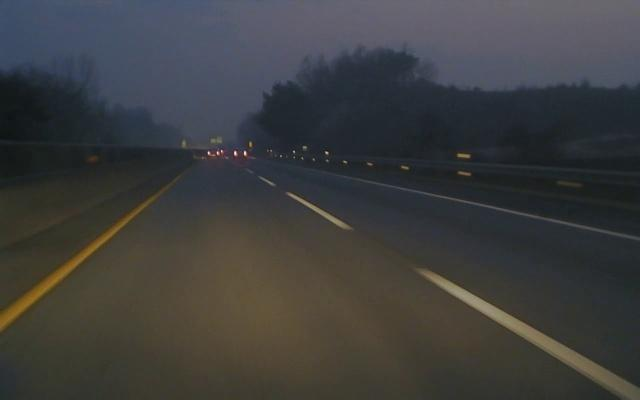lane: (257, 174, 637, 398), (2, 182, 171, 331), (365, 179, 640, 241)
